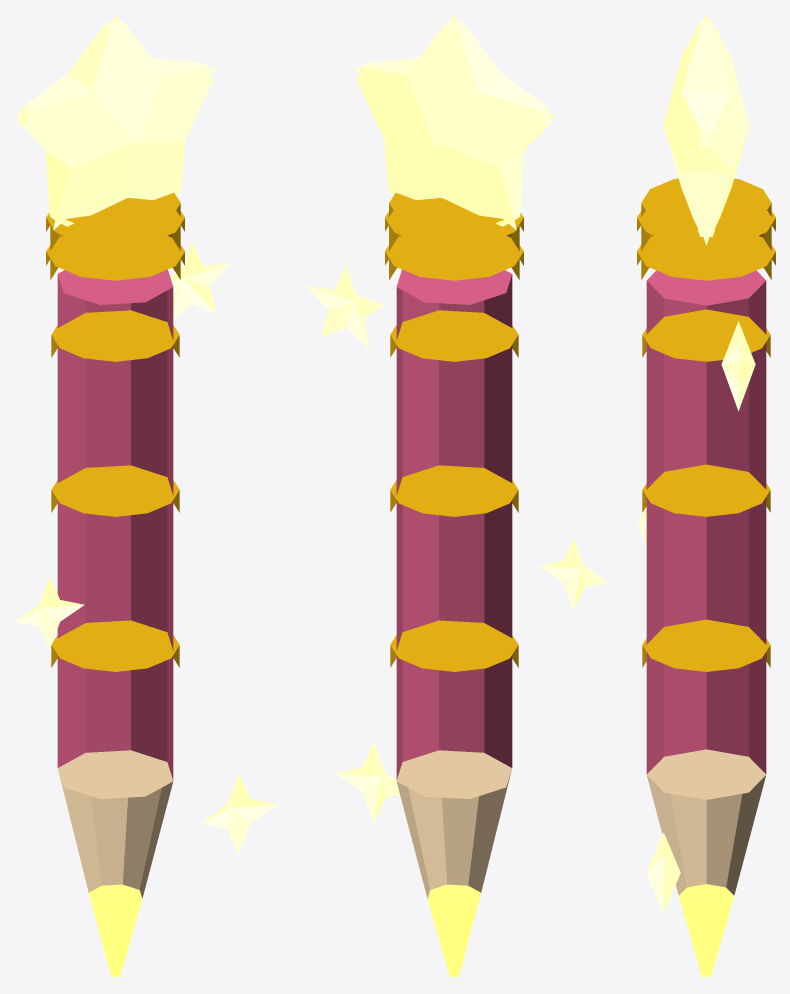
File: f-trollpenna-magisk-cc0.glb
The picture shows the model from 3 angles, left to right: view 1: azimuth 30°, elevation 25°; view 2: azimuth 150°, elevation 25°; view 3: azimuth 270°, elevation 25°; orthographic projection.
Parts seen in each view (by area): view 1: Trollpenna_Magisk; view 2: Trollpenna_Magisk; view 3: Trollpenna_Magisk.
Boxes of the visible parts, x1,y1,x2,y2 form: Trollpenna_Magisk: (14, 14, 277, 977); Trollpenna_Magisk: (306, 14, 608, 977); Trollpenna_Magisk: (637, 14, 775, 977).
Bounding box in the file's own units: 0.29 × 0.995 × 0.13.
